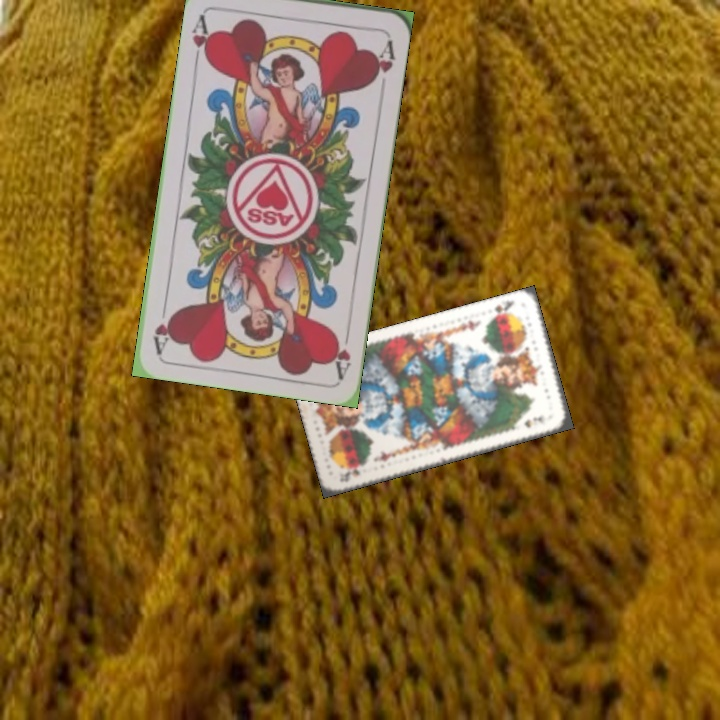HA: (188, 7, 215, 66), (328, 320, 354, 379)
SK: (487, 296, 517, 321), (335, 463, 362, 484)
